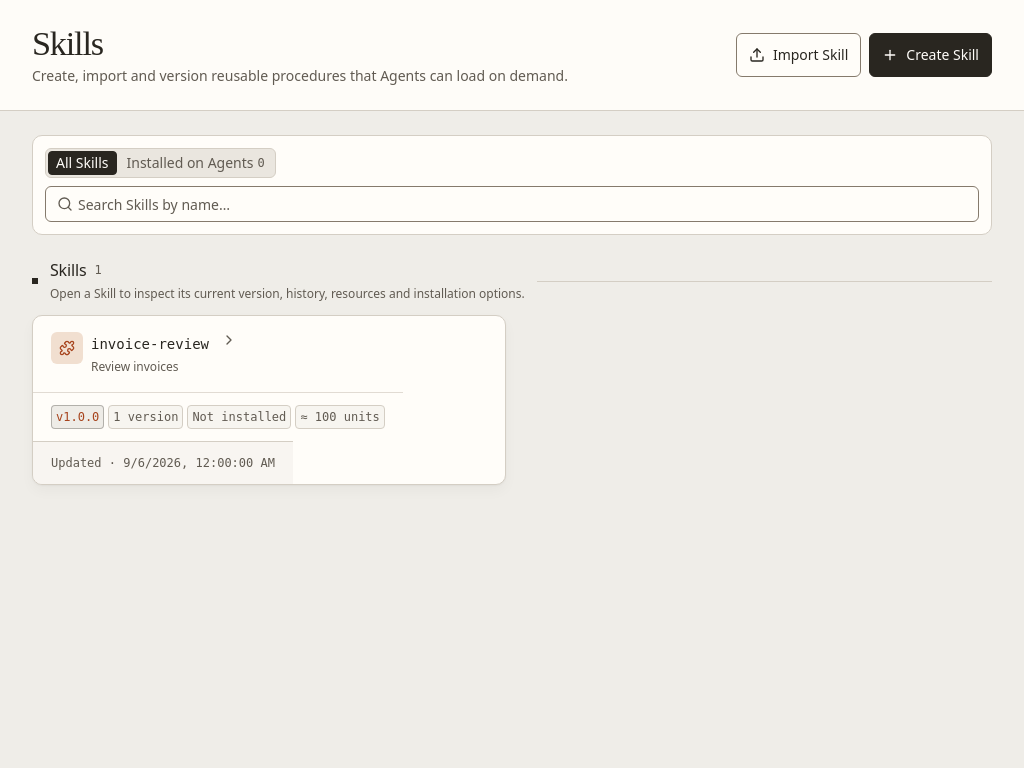
Test: Skills navigation regression › renders the Project catalog as operational cards and opens Skill details without replacing the page
Step 1. Click the button with aria-label "Open Skill invoice-review" → point(269, 400), box [32,315,506,485]
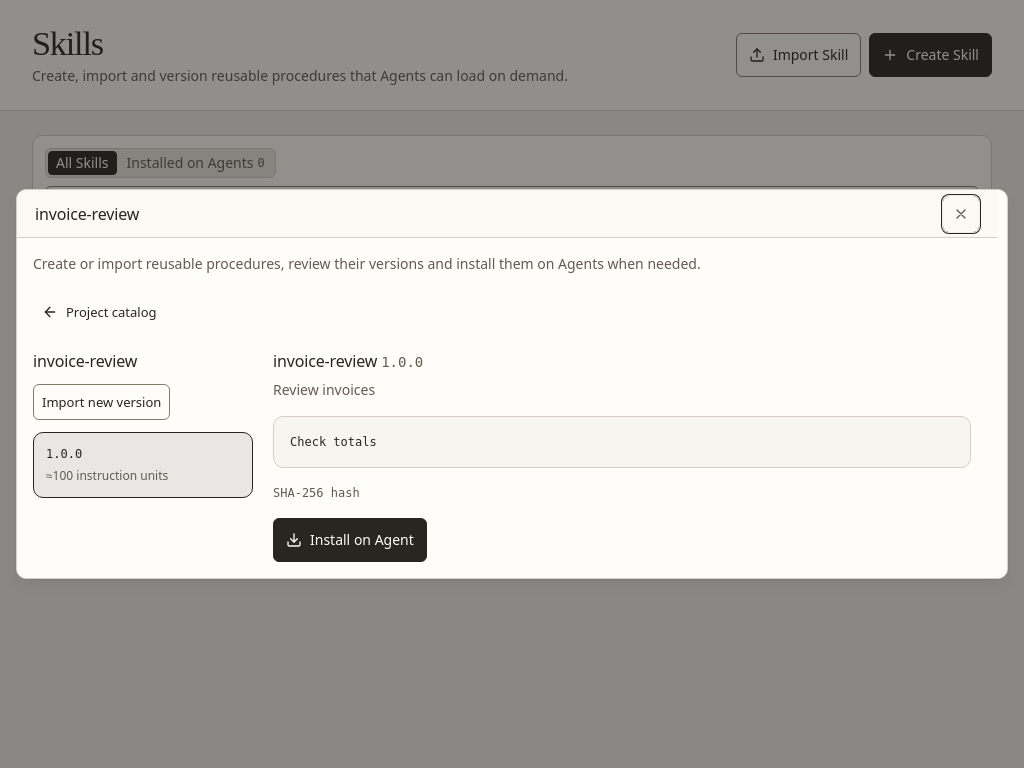
Expected: the heading "Skills" is shown, [32,24,103,62]
Now the text "SHA-256 hash" is shown, box [273,486,360,500]
